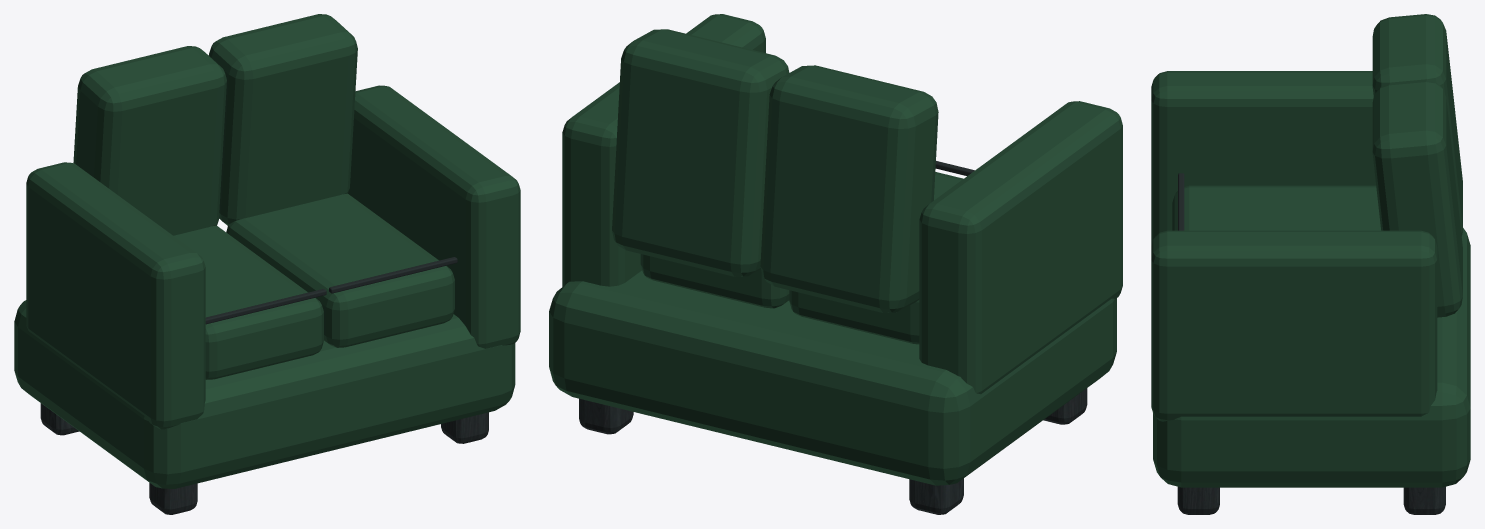
File: hiperreal.glb
3 views of the same model, side by side, from view 1: azimuth 30°, elevation 25°; view 2: azimuth 150°, elevation 25°; view 3: azimuth 270°, elevation 25° (orthographic). The views are drawn at different scales.
Visible parts, largest first — view 1: Upholstered base, Armrest, Armrest.001, Back cushion.001, Back cushion, Seat cushion.001, Seat cushion, Sofa foot.001, Sofa foot.003, Upholstery piping.001, Upholstery piping, Sofa foot; view 2: Upholstered base, Armrest, Back cushion, Back cushion.001, Armrest.001, Seat cushion, Seat cushion.001, Sofa foot, Sofa foot.002, Sofa foot.001; view 3: Armrest.001, Upholstered base, Armrest, Back cushion.001, Seat cushion, Back cushion, Sofa foot.002, Sofa foot.003, Upholstery piping.
Part boxes in pixels (x1,y1,x2,y2): Upholstered base: (14,300,515,488); Armrest: (26,162,205,429); Armrest.001: (348,85,520,348); Back cushion.001: (209,14,357,225); Back cushion: (73,46,226,235); Seat cushion.001: (226,193,454,347); Seat cushion: (173,225,323,379); Sofa foot.001: (149,483,197,514); Sofa foot.003: (441,412,488,443); Upholstery piping.001: (329,257,457,293); Upholstery piping: (205,289,326,324); Sofa foot: (40,403,79,435); Upholstered base: (549,270,1116,485); Armrest: (919,101,1122,394); Back cushion: (760,65,938,312); Back cushion.001: (612,29,789,276); Armrest.001: (562,14,765,286); Seat cushion: (789,172,963,344); Seat cushion.001: (640,254,789,308); Sofa foot: (909,478,963,514); Sofa foot.002: (579,398,633,434); Sofa foot.001: (1043,388,1087,424); Armrest.001: (1151,230,1437,421); Upholstered base: (1153,228,1470,487); Armrest: (1151,71,1375,245); Back cushion.001: (1372,80,1462,317); Seat cushion: (1172,185,1380,230); Back cushion: (1372,14,1462,236); Sofa foot.002: (1403,486,1445,514); Sofa foot.003: (1177,487,1219,514); Upholstery piping: (1178,173,1184,230).
Size of the model in its own units: 1 by 0.907 by 0.724.
3 materials, 1 textured.
